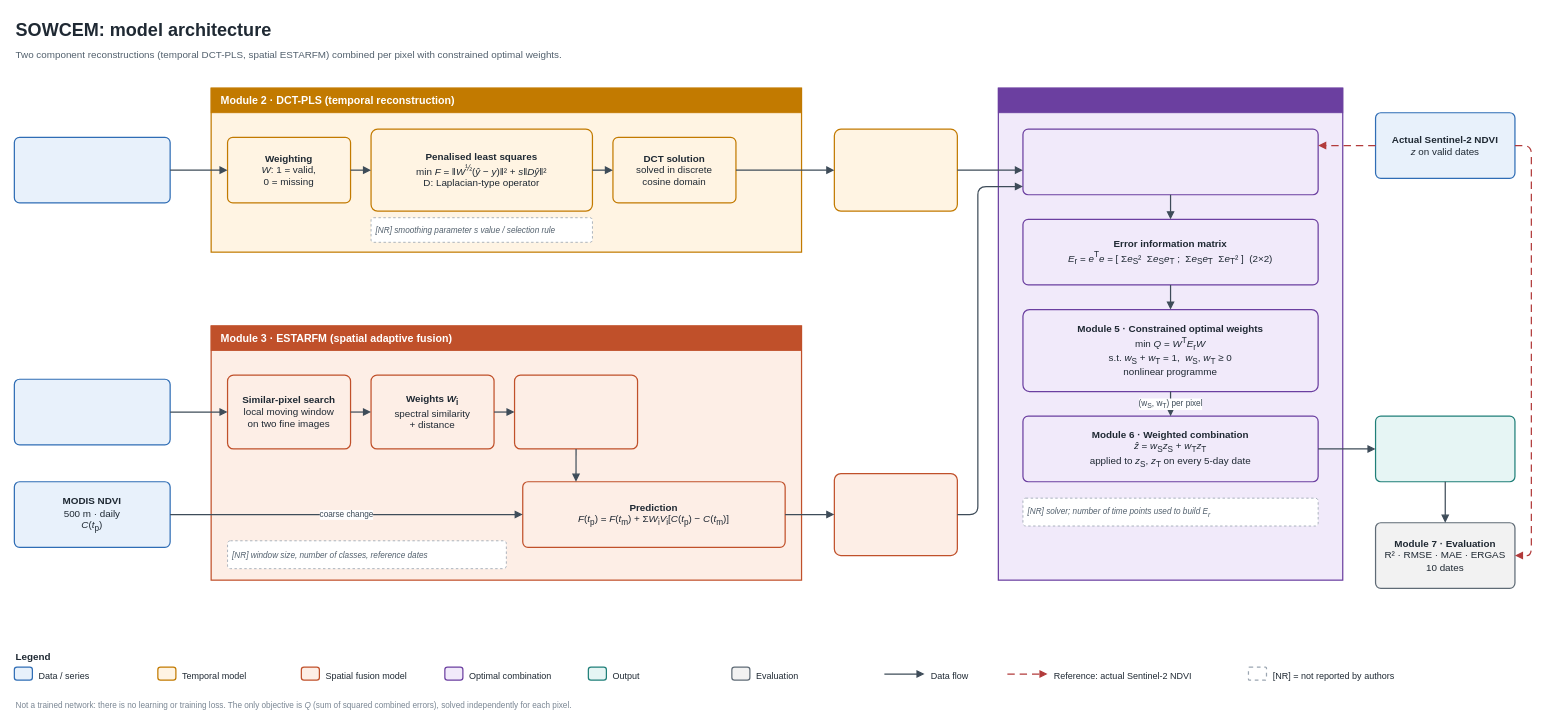
Some shapes in this 1553 by 725 pixel diagram are drawn without their labels. The centre of each missing label's shape, as x and y in pixels:
"Conversion coeff. V i linear regression fine vs coarse" belongs at pixel 576 411.
"Fine–coarse reference pairs S2 + MODIS NDVI at t m (two pairs)" belongs at pixel 91 411.
"Module 4 · Error vectors e S = z − z S , e T = z − z T over valid dates" belongs at pixel 1170 161.
"Modules 4–6 · SOWCEM (per pixel)" belongs at pixel 1170 100.
"Output 5-day · 10 m NDVI series ẑ" belongs at pixel 1445 448.
"Sentinel-2 NDVI 10 m · gappy series y (valid dates)" belongs at pixel 91 169.
"z S temporal estimate 10 m, all dates" belongs at pixel 895 169.
"z T spatial estimate 10 m, all dates" belongs at pixel 895 514.
